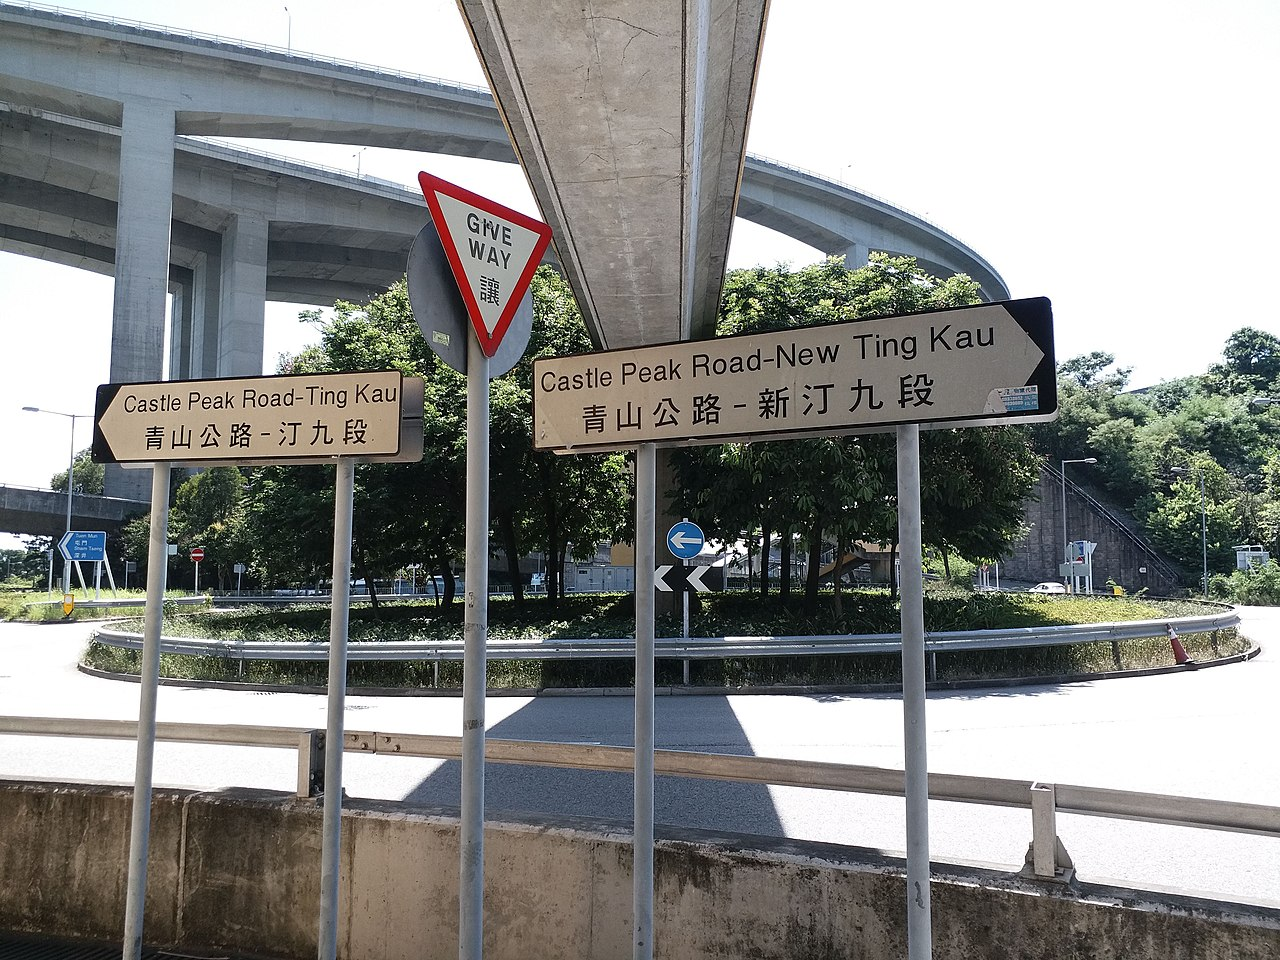Give Way: (410, 168, 557, 357)
